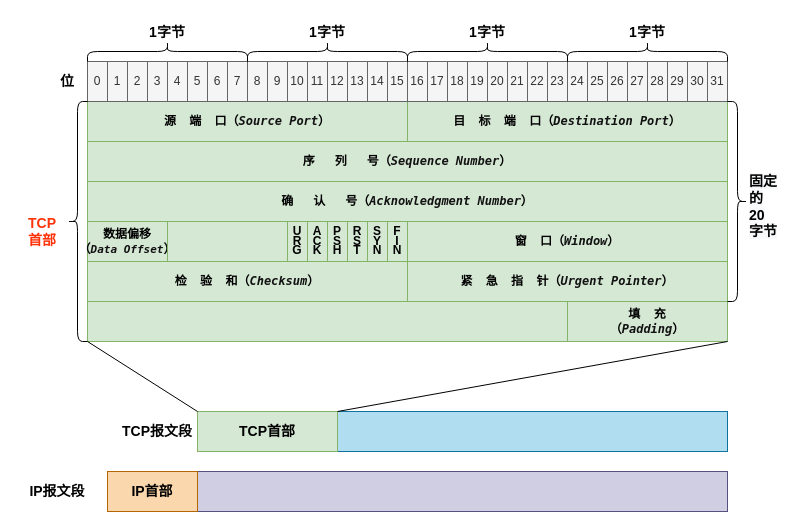
Image size: 794x529. Some labels were removed from this diagram. The box of each missing label's shape, as (x1, y1, x2, y2) in pixels:
IP数据报 数据部分: (196, 470, 728, 512)
TCP数据部分: (336, 410, 728, 452)
保 留 （ Reserved ）: (166, 220, 288, 262)
选 项（长 度 可 变） （ Options ）: (86, 300, 568, 342)
